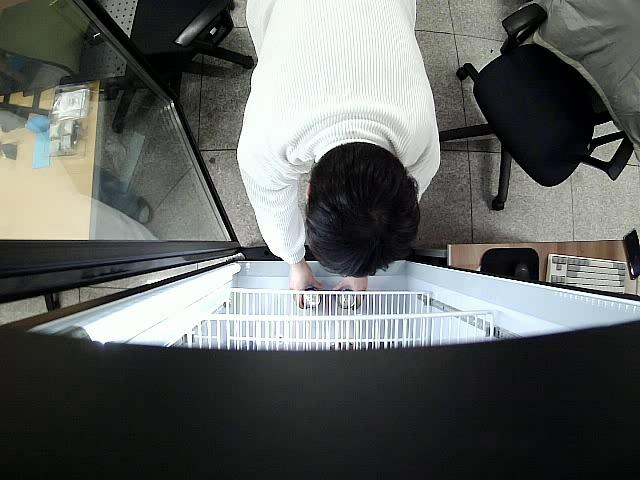00_hand: (289, 268, 322, 309)
14_welchsGrape: (337, 286, 359, 311), (301, 288, 323, 311)
